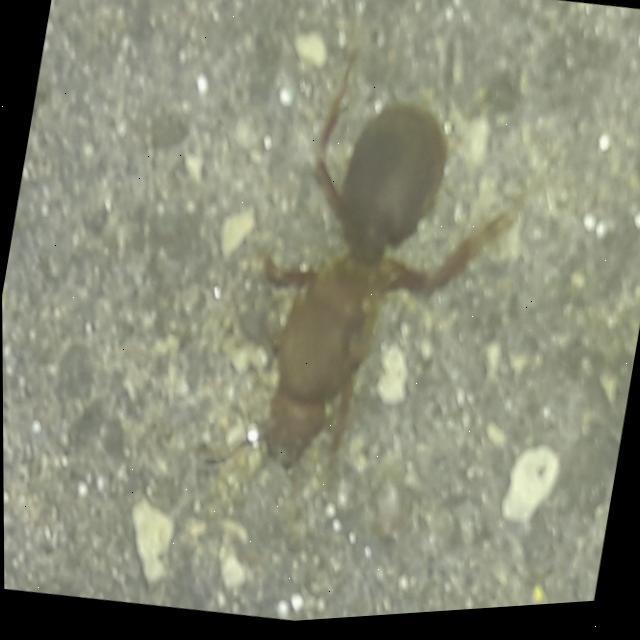Alive-Female-Dealate: (190, 28, 546, 562)
